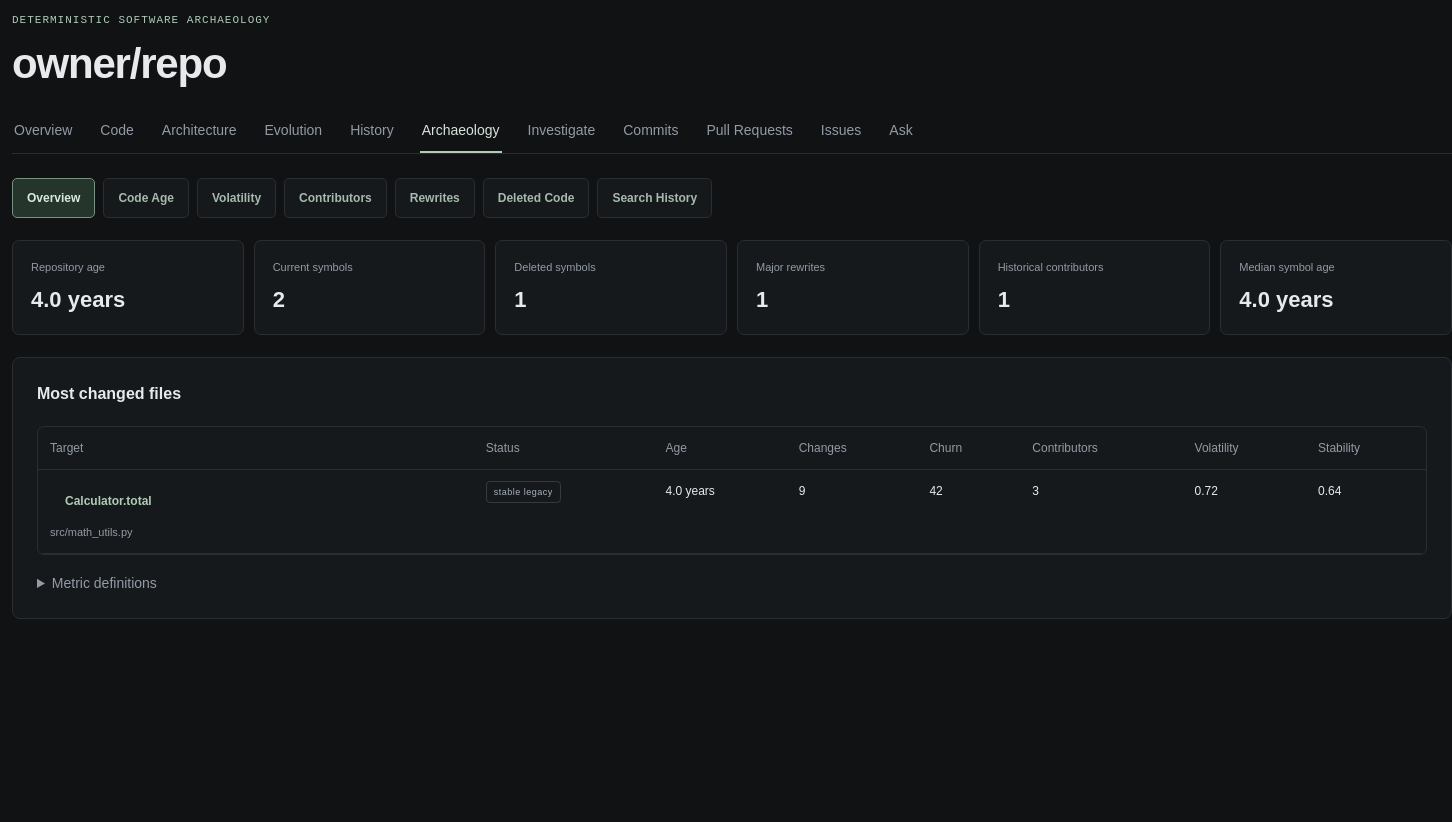
it: software archaeology › renders the overview, age distribution, volatility controls, contributors, and rewrites
The image size is (1452, 822).
Expected: the heading "owner/repo" is shown, [12, 40, 226, 86]
Expected: the text "Repository age" is shown, [31, 261, 105, 273]
Step 1. Click the tab "Code Age" → (146, 198), box [103, 178, 189, 218]
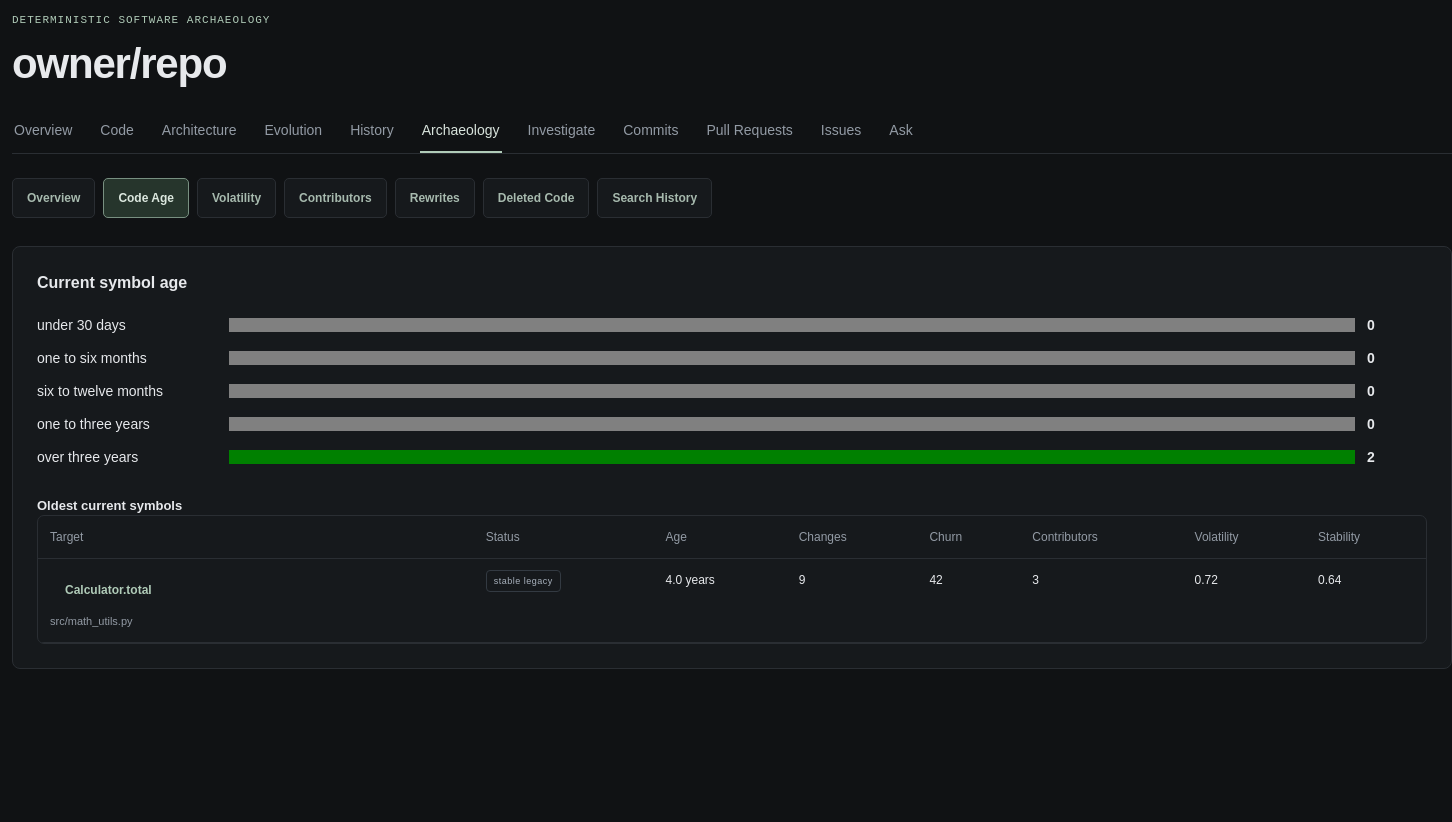
Expected: the heading "Current symbol age" is shown, [37, 274, 187, 291]
Expected: the text "over three years" is shown, [37, 449, 138, 465]
Step 2. Click the tab "Volatility" → (236, 198), box [197, 178, 276, 218]
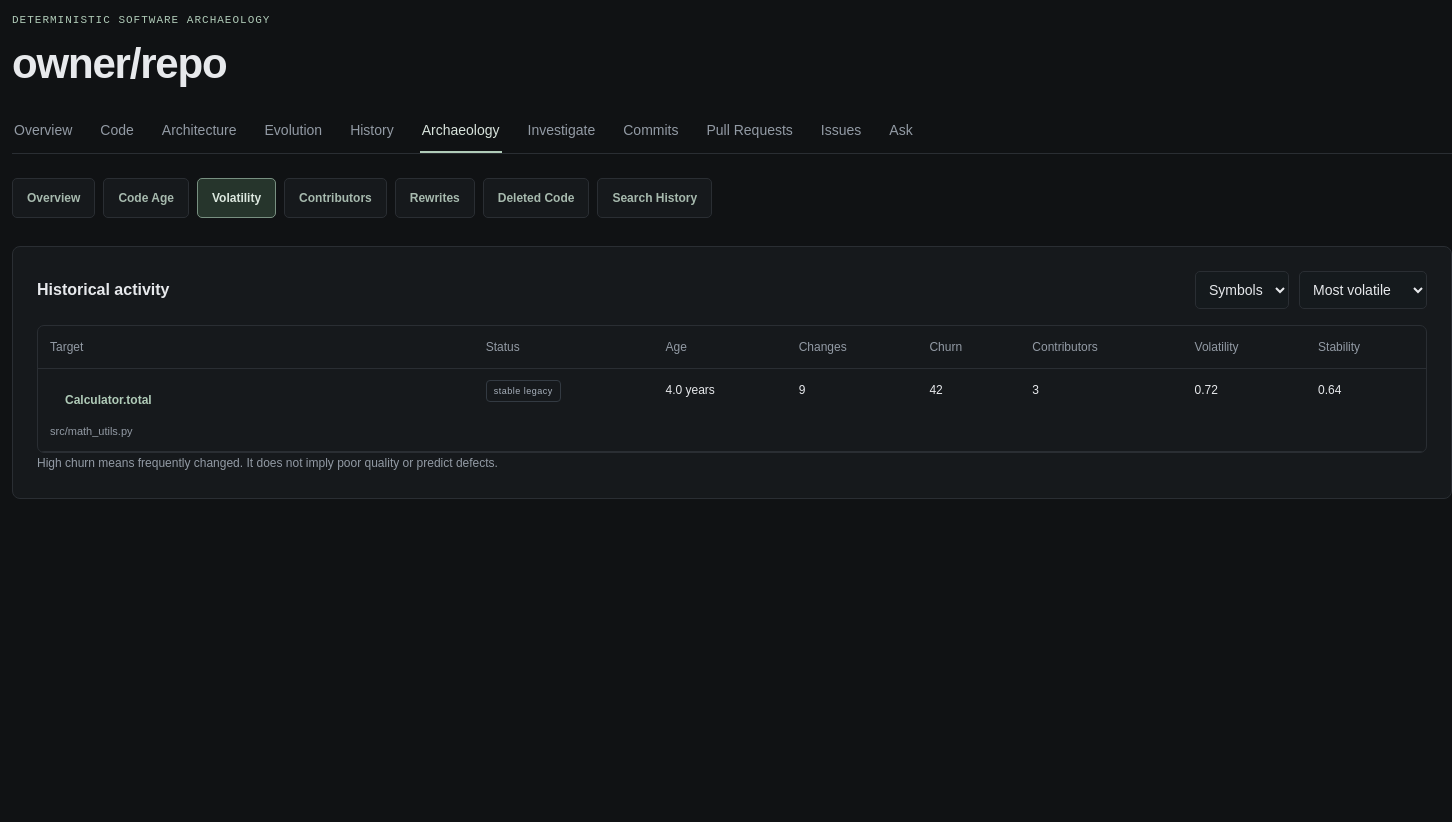
Expected: the heading "Historical activity" is shown, [37, 278, 170, 302]
Step 3. Select "Most stable" in the dropdown named "Sort archaeology" → (1363, 290), box [1299, 271, 1427, 309]
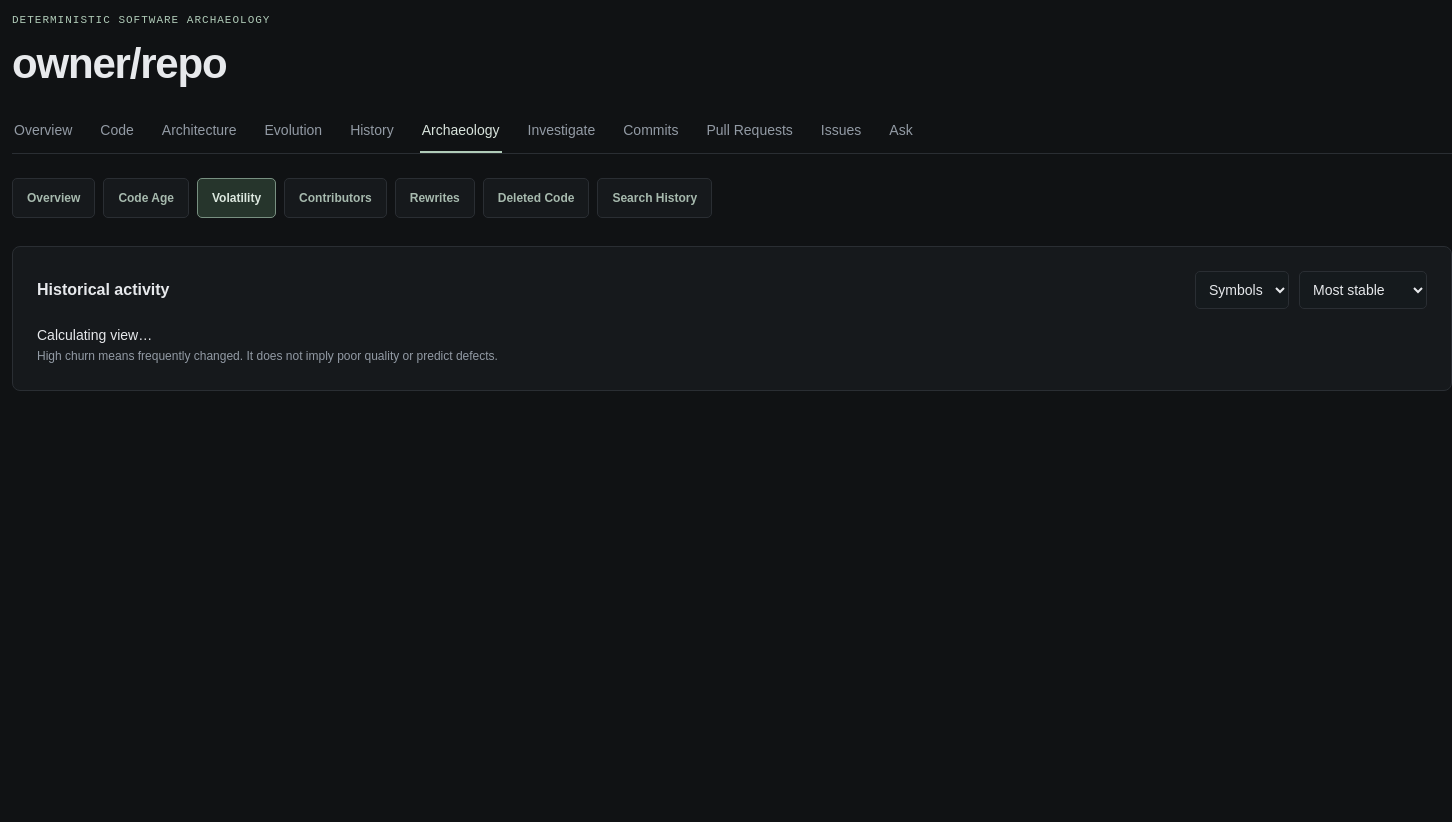
Step 4. Click the tab "Contributors" → (335, 198), box [284, 178, 387, 218]
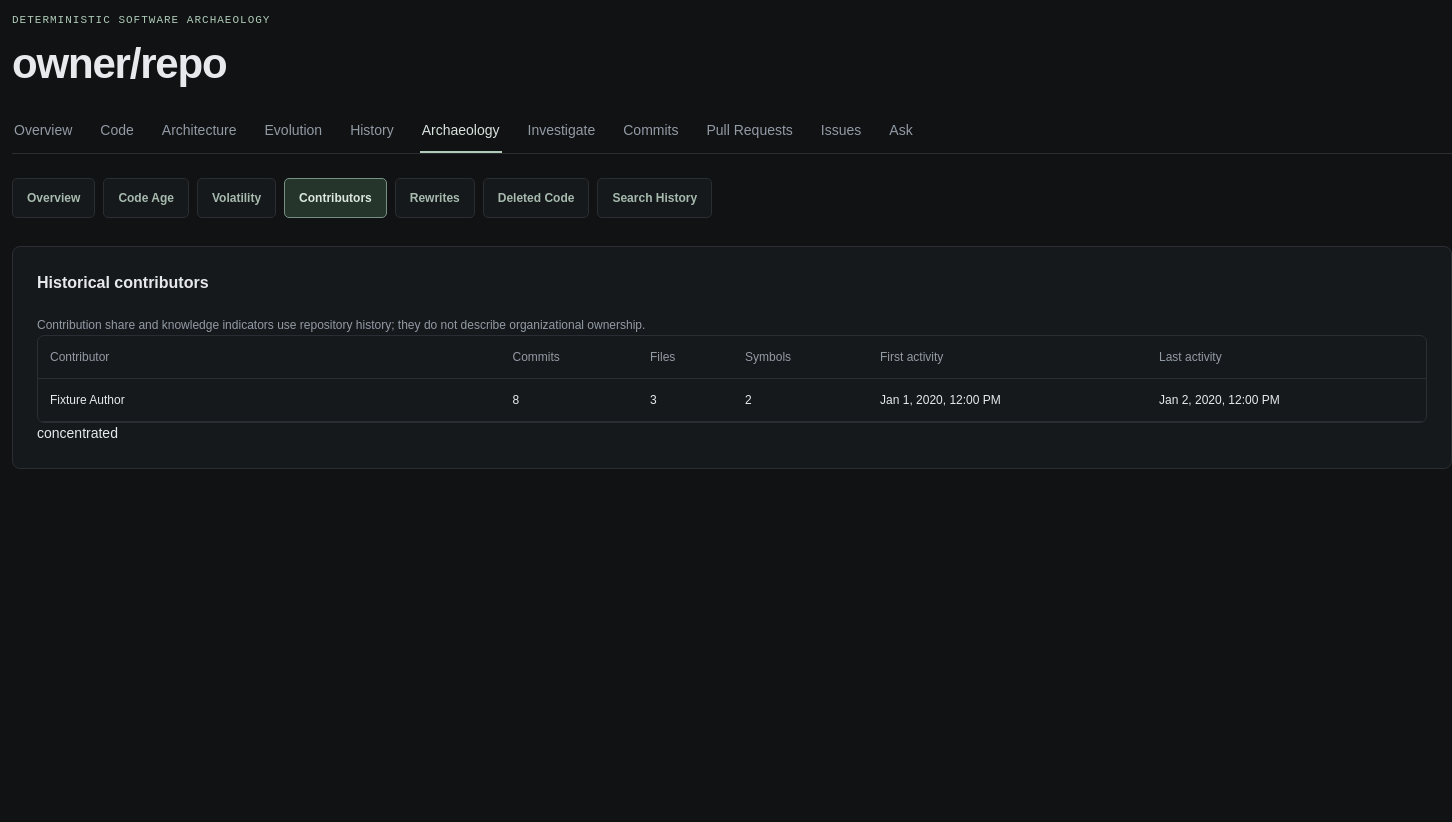
Expected: the text "Fixture Author" is shown, [38, 379, 500, 422]
Expected: the text "concentrated" is shown, [37, 425, 118, 441]
Step 5. Click the tab "Rewrites" → (435, 198), box [395, 178, 475, 218]
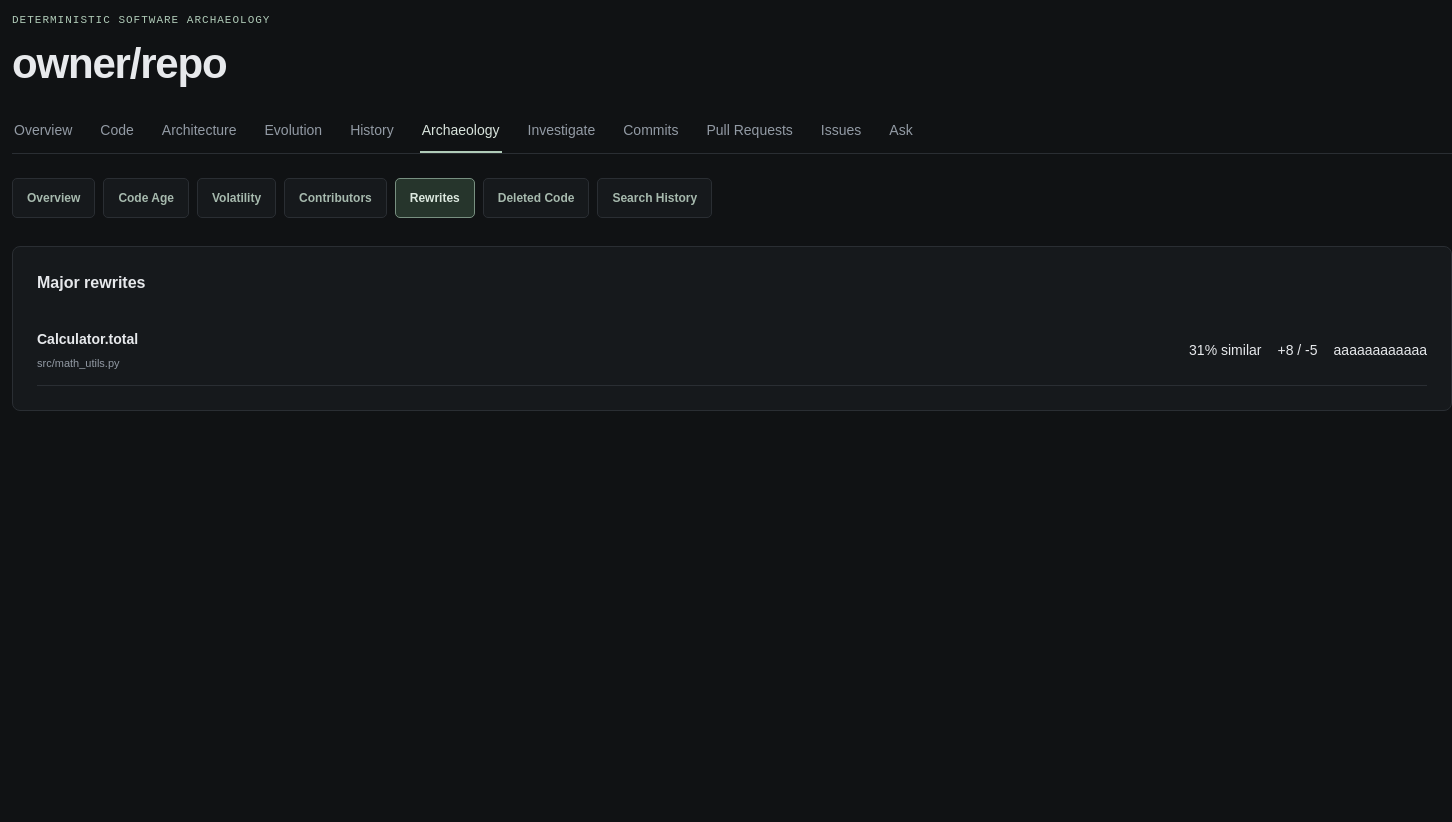
Expected: the text "31% similar" is shown, [1189, 340, 1262, 361]
Expected: the text "+8 / -5" is shown, [1277, 340, 1318, 361]
